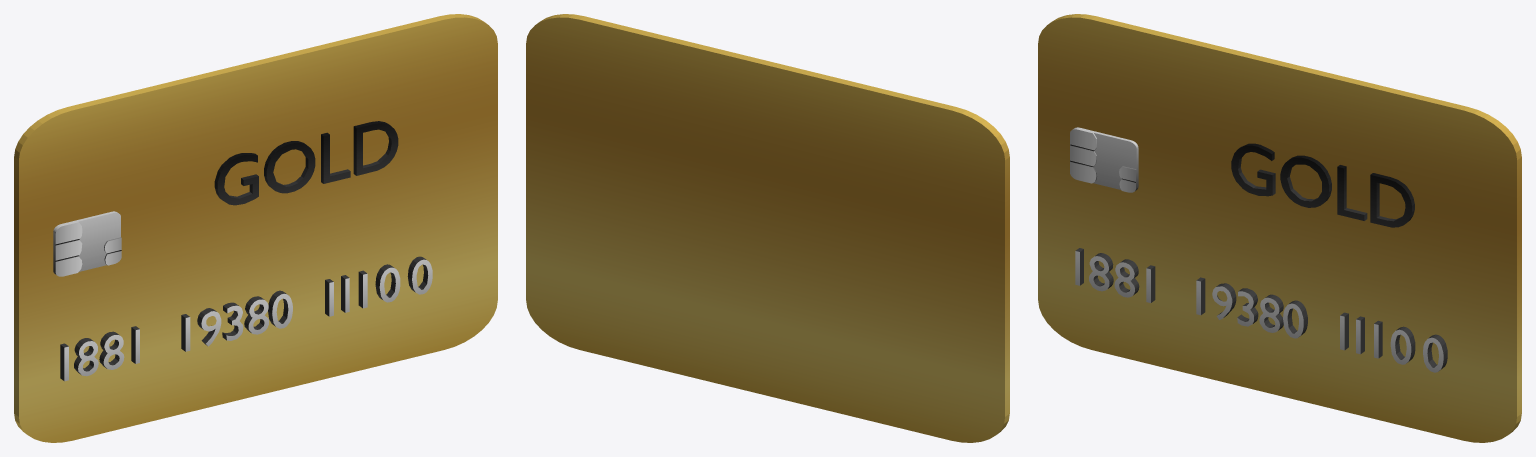
File: gold.fbx
3 views of the same model, side by side, from view 1: azimuth 30°, elevation 25°; view 2: azimuth 150°, elevation 25°; view 3: azimuth 330°, elevation 25° (orthographic).
Visible parts, largest first — view 1: gold; view 2: gold; view 3: gold.
Boxes of the visible parts, <box> form: gold: <box>14,14,497,442</box>; gold: <box>526,14,1009,442</box>; gold: <box>1038,14,1521,442</box>.
Size of the model in its own units: 130 by 85.51 by 4.2.
